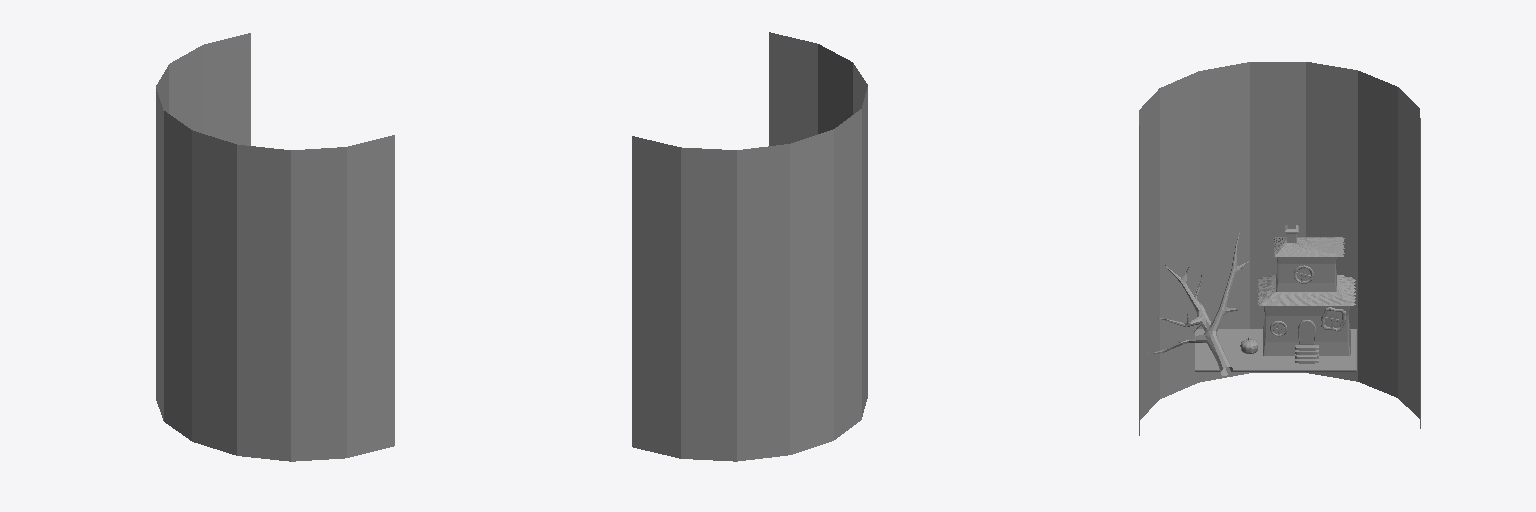
Rendered from Casa.obj.
The picture shows the model from 3 angles: view 1: azimuth 30°, elevation 25°; view 2: azimuth 150°, elevation 25°; view 3: azimuth 270°, elevation 25°; orthographic projection.
Visible parts, largest first — view 1: Cylinder; view 2: Cylinder; view 3: Cylinder, Cube_001.
Part boxes in pixels (x1,y1,x2,y2): Cylinder: (156,33,394,461); Cylinder: (632,32,867,461); Cylinder: (1139,62,1420,435); Cube_001: (1148,225,1356,375).
Size of the model in its own units: 19.13 by 35.91 by 29.46.